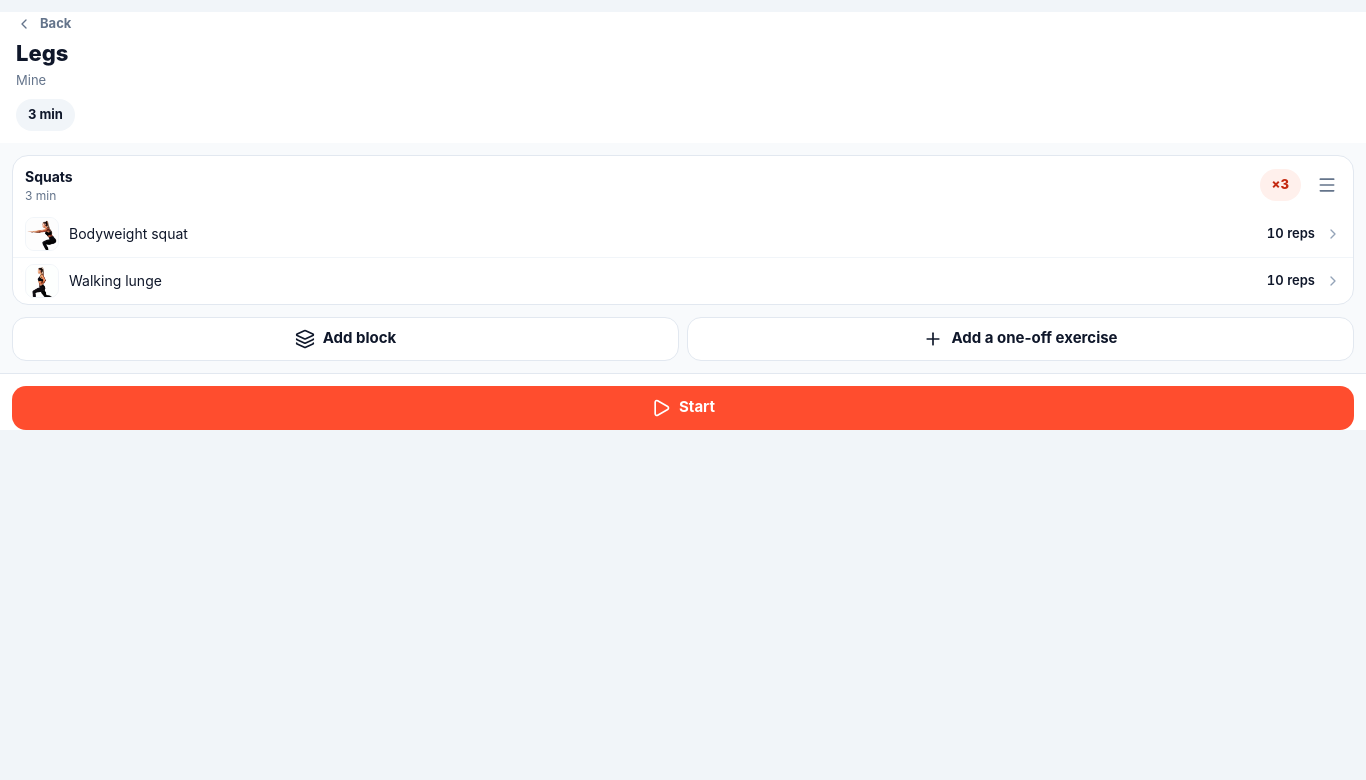
Test: the workout page reads plain; a tap on a block opens it for editing (Nick, 1 Nov 2026) › has no page-wide Edit; a tap on a block header opens that block, and Done closes it
Expected: the text "Squats" is shown, [25, 168, 73, 184]
Click the button with aria-label "Edit Squats" at (49, 185), box [25, 168, 73, 202]
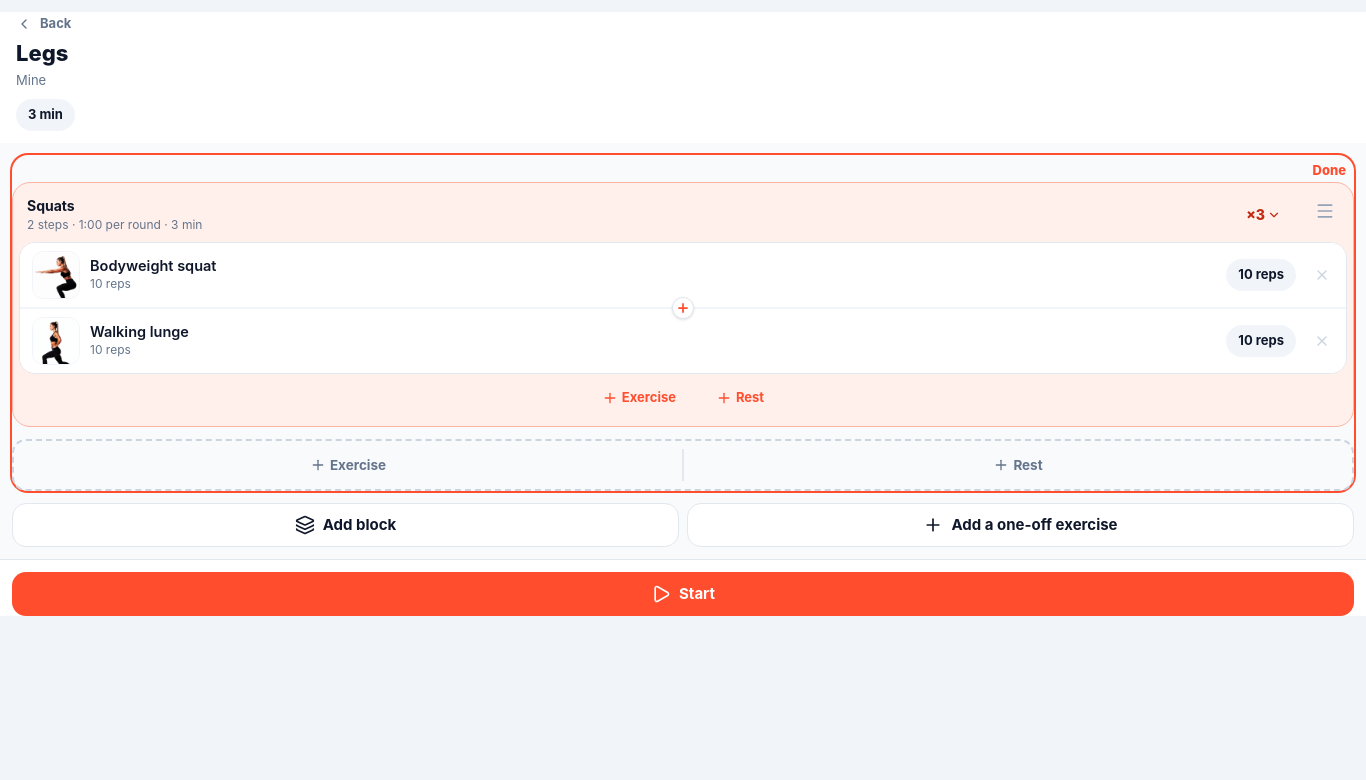
Result: the button "Squats 2 steps · 1:00 per round · 3 min ×3" is shown at [19, 189, 1303, 242]
Click the button with test id "block-done" at (1329, 170), box [1308, 158, 1350, 182]
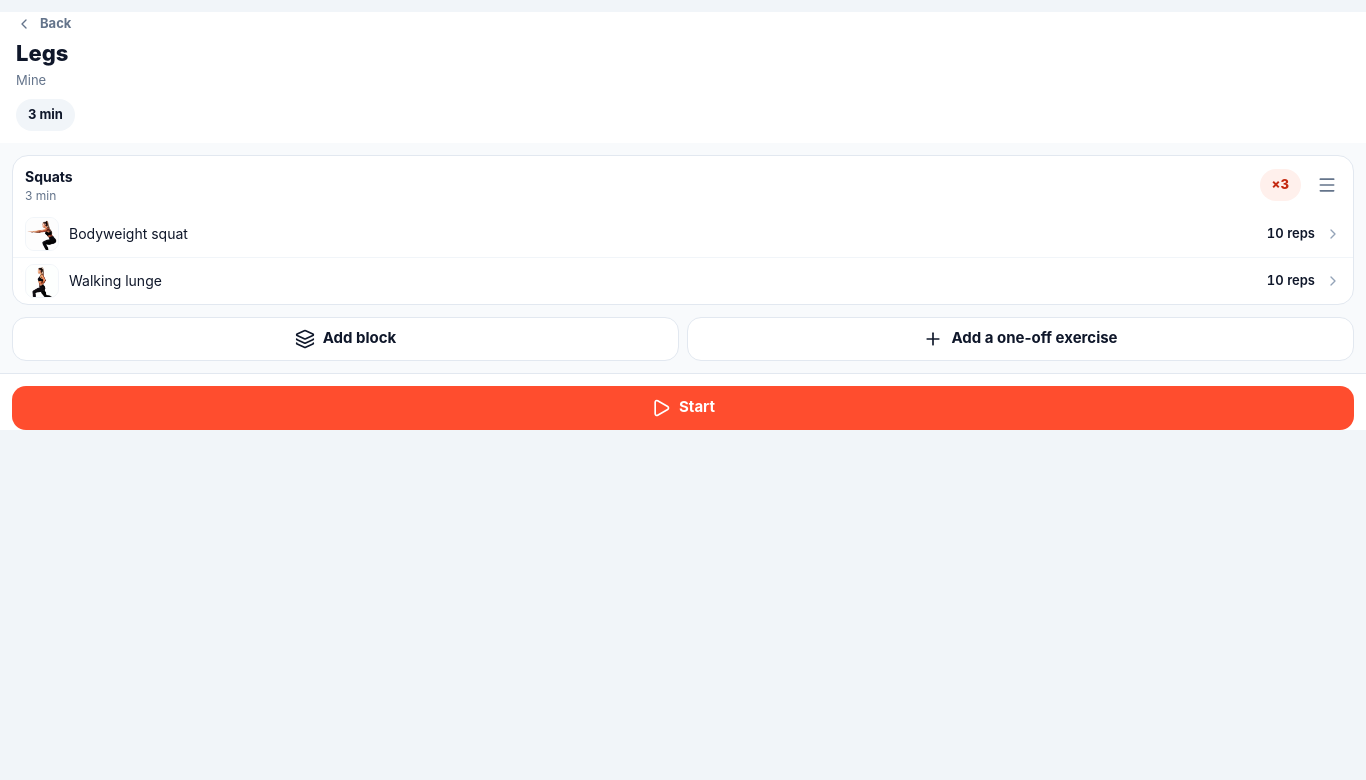
Result: the button with aria-label "Edit Squats" is shown at [25, 168, 73, 202]
